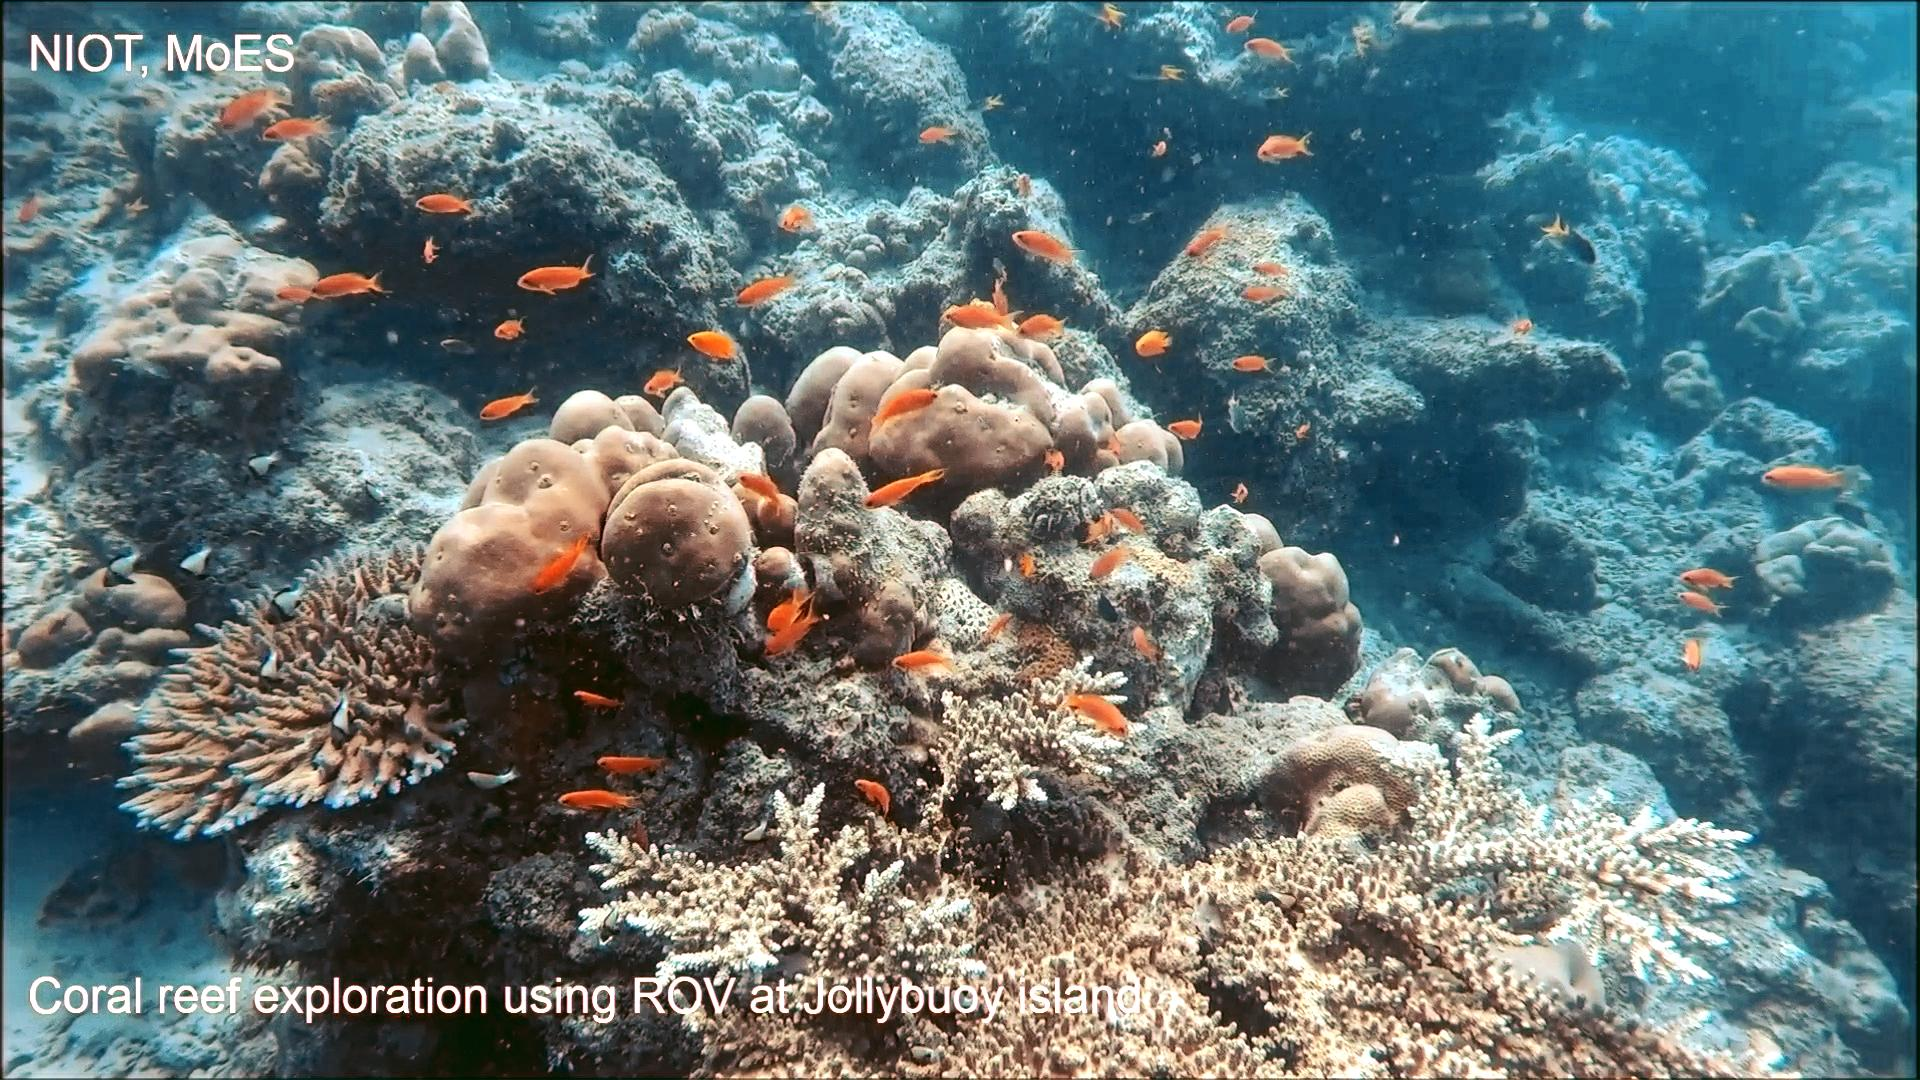Porites-Porites pukoensis: (406, 386, 762, 667), (766, 316, 1187, 497)
